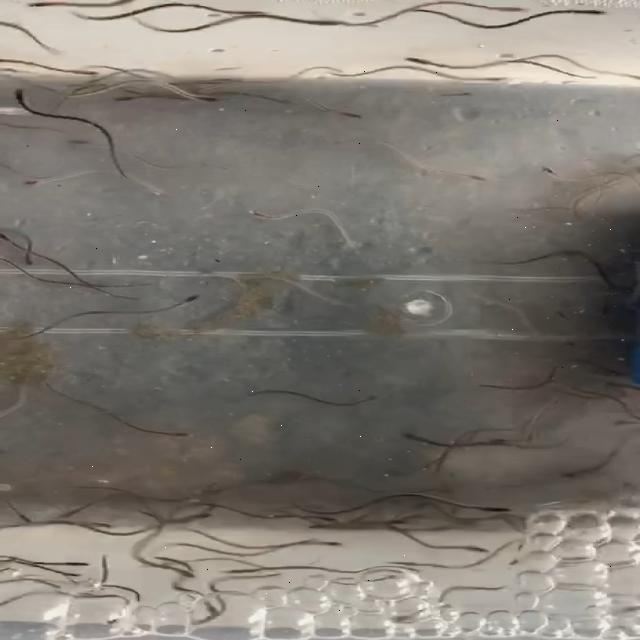active_glass_eel: (68, 61, 116, 83), (306, 10, 348, 34), (101, 85, 141, 109), (0, 223, 34, 249), (468, 73, 516, 91), (154, 566, 202, 584), (8, 252, 56, 270), (460, 164, 498, 186), (148, 424, 194, 442), (332, 107, 377, 125), (188, 257, 238, 273), (488, 298, 524, 320), (567, 6, 613, 23), (228, 560, 264, 581), (490, 0, 527, 19), (244, 202, 280, 221), (0, 596, 42, 612), (284, 462, 316, 482), (497, 584, 541, 598), (351, 390, 385, 408), (580, 56, 613, 74), (24, 0, 66, 14), (167, 296, 201, 312), (456, 538, 490, 554), (311, 534, 341, 550), (121, 152, 151, 166), (8, 511, 40, 524), (394, 425, 418, 442), (85, 518, 118, 530), (292, 594, 324, 606), (56, 560, 88, 572), (24, 176, 46, 192), (406, 50, 431, 64), (602, 230, 622, 246), (478, 500, 504, 512), (11, 88, 36, 100), (198, 96, 228, 106)
